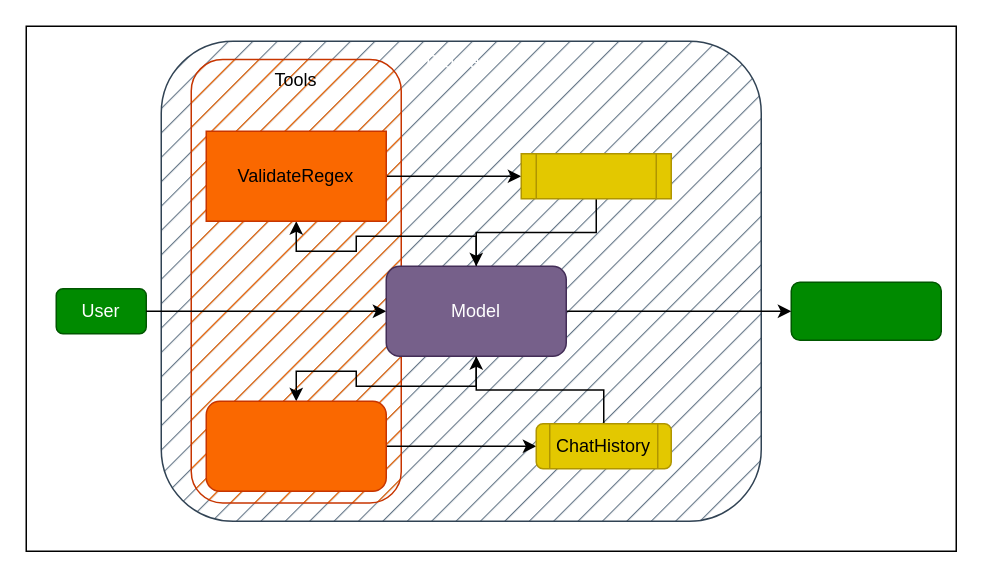
Image size: 983x578. Some labels were removed from this diagram. Here are the shapes that lost their labels. From the top down, the centre of each, then its label:
(595,175): Output JSON
(865,310): Final response
(295,445): GetHistory
